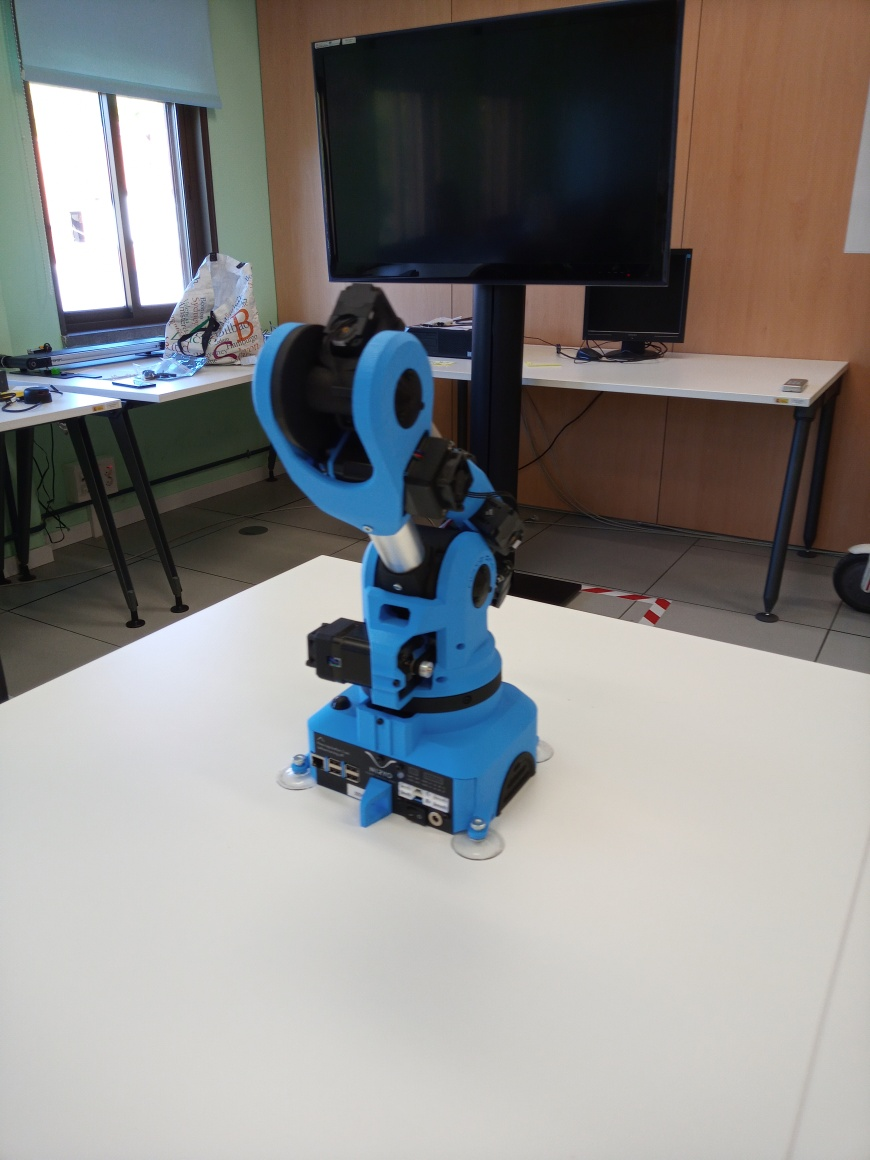robot: (250, 282, 558, 861)
